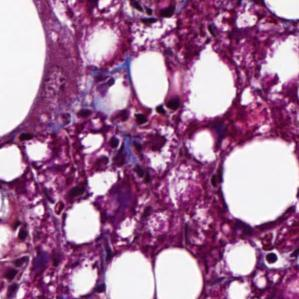inflammation: (111, 104, 173, 152), (55, 173, 114, 210)
